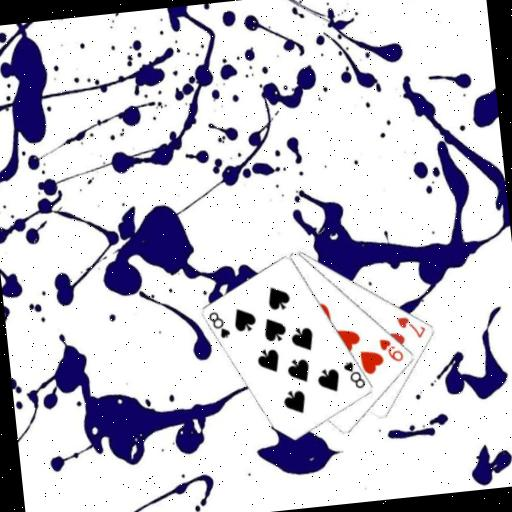7H: (394, 311, 429, 342)
8S: (340, 357, 368, 391), (206, 307, 233, 342)
9H: (376, 334, 406, 365)
